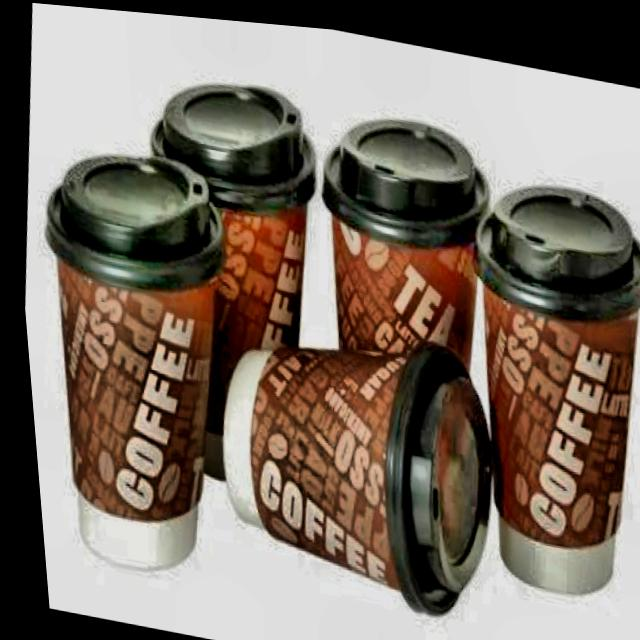Cup: (11, 167, 255, 598), (196, 310, 484, 635), (104, 113, 336, 511), (282, 130, 505, 544), (429, 203, 640, 615)
